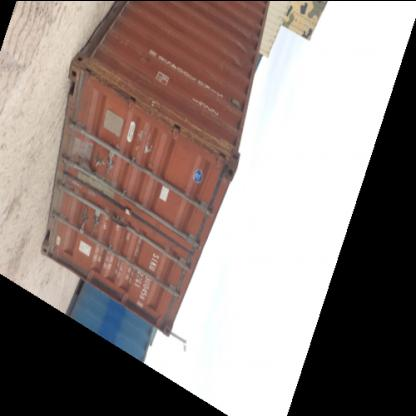Damage: (183, 118, 237, 157), (87, 68, 139, 100), (228, 15, 258, 64), (74, 164, 122, 190), (74, 134, 100, 158), (136, 126, 156, 152), (140, 52, 162, 64)
